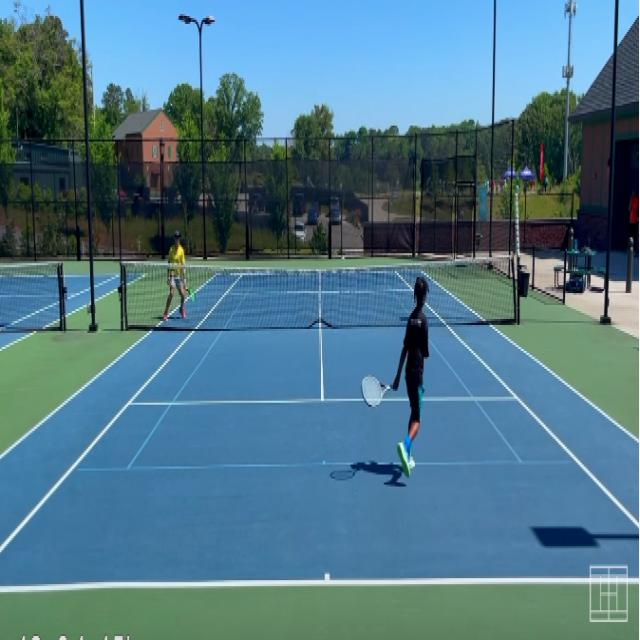ball: (341, 254, 345, 262)
